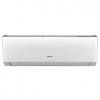ac: (1, 33, 99, 68)
